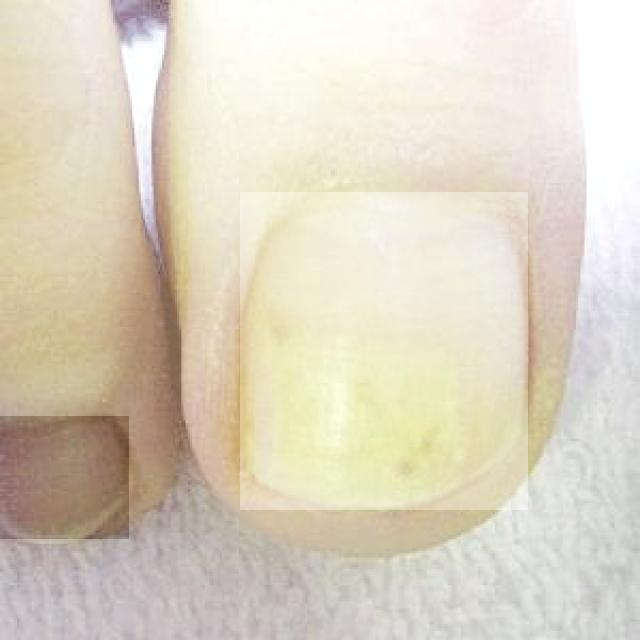diabetes: (241, 192, 528, 510)
sehat: (0, 416, 129, 539)
